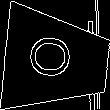O_E: (30, 36, 83, 85)
